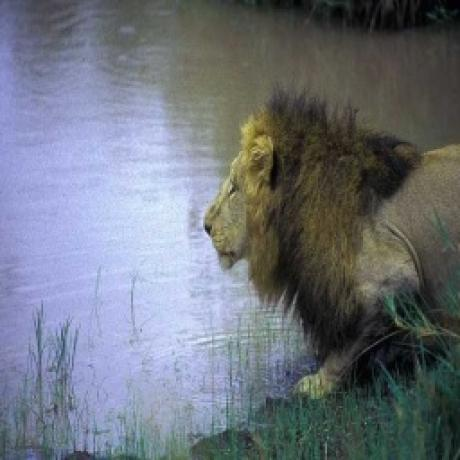Lion: (202, 89, 460, 399)
